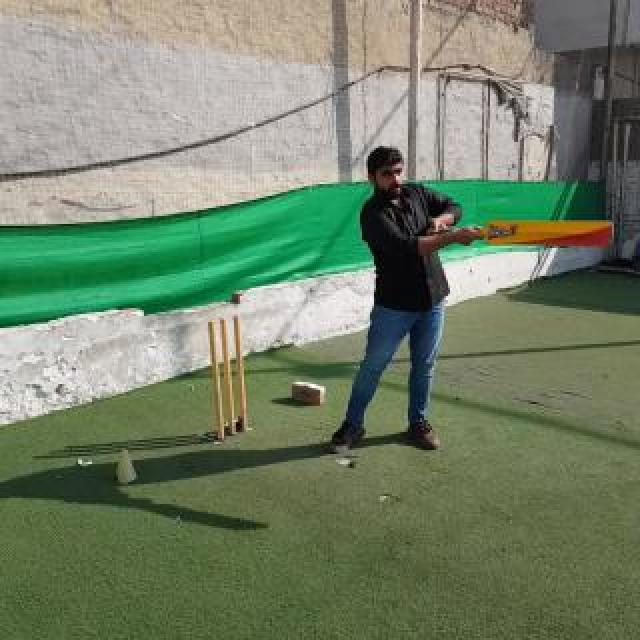bat: (477, 219, 615, 247)
